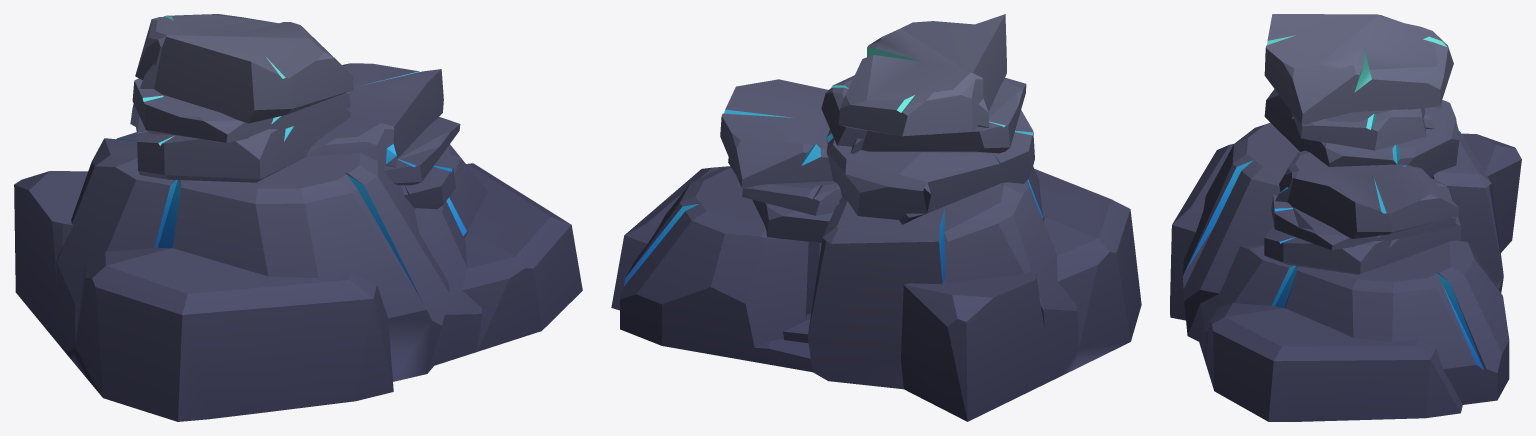
The model's file is Cube_Blue_emi3.fbx.
3 renders of one model, left to right at view 1: azimuth 30°, elevation 25°; view 2: azimuth 150°, elevation 25°; view 3: azimuth 270°, elevation 25°, orthographic. The views are drawn at different scales.
Parts seen in each view (by area): view 1: Cube.005_blueEmi; view 2: Cube.005_blueEmi; view 3: Cube.005_blueEmi.
Boxes of the visible parts, left/top/right/bottom form: Cube.005_blueEmi: left=14, top=14, right=582, bottom=421; Cube.005_blueEmi: left=611, top=14, right=1141, bottom=421; Cube.005_blueEmi: left=1170, top=14, right=1521, bottom=421.
Bounding box in the file's own units: 16.62 × 10.83 × 12.38.
